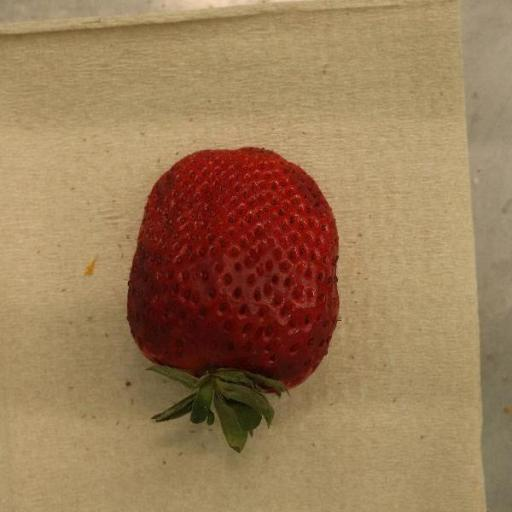Strawberry: (126, 147, 339, 454)
